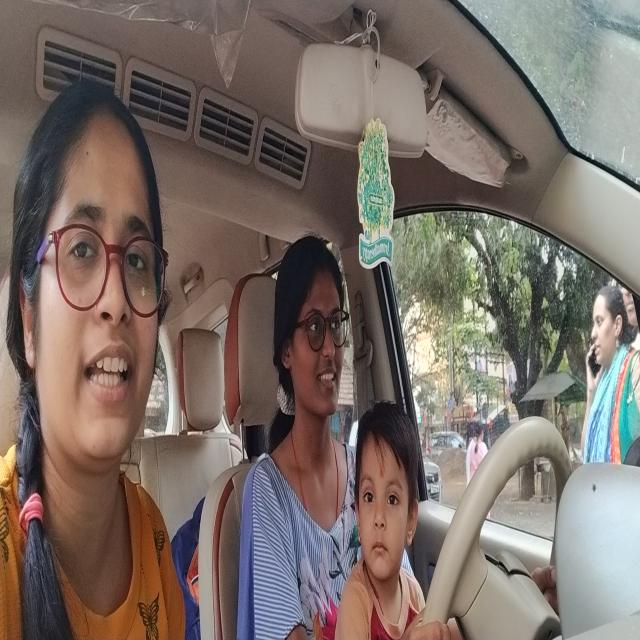child: (353, 396, 422, 572)
person: (3, 71, 174, 525), (269, 228, 352, 438)
